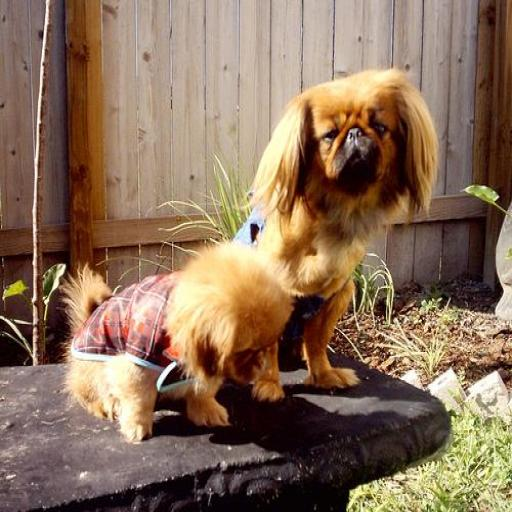dog_face: (261, 75, 428, 210)
